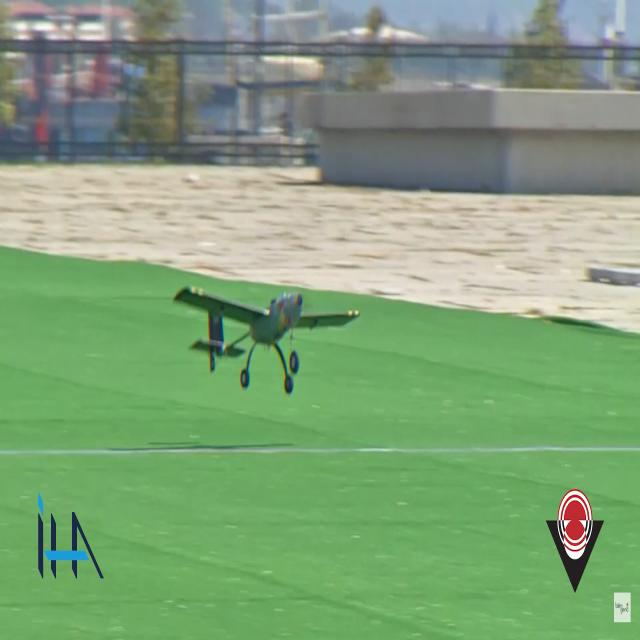iha: (165, 314, 353, 365)
